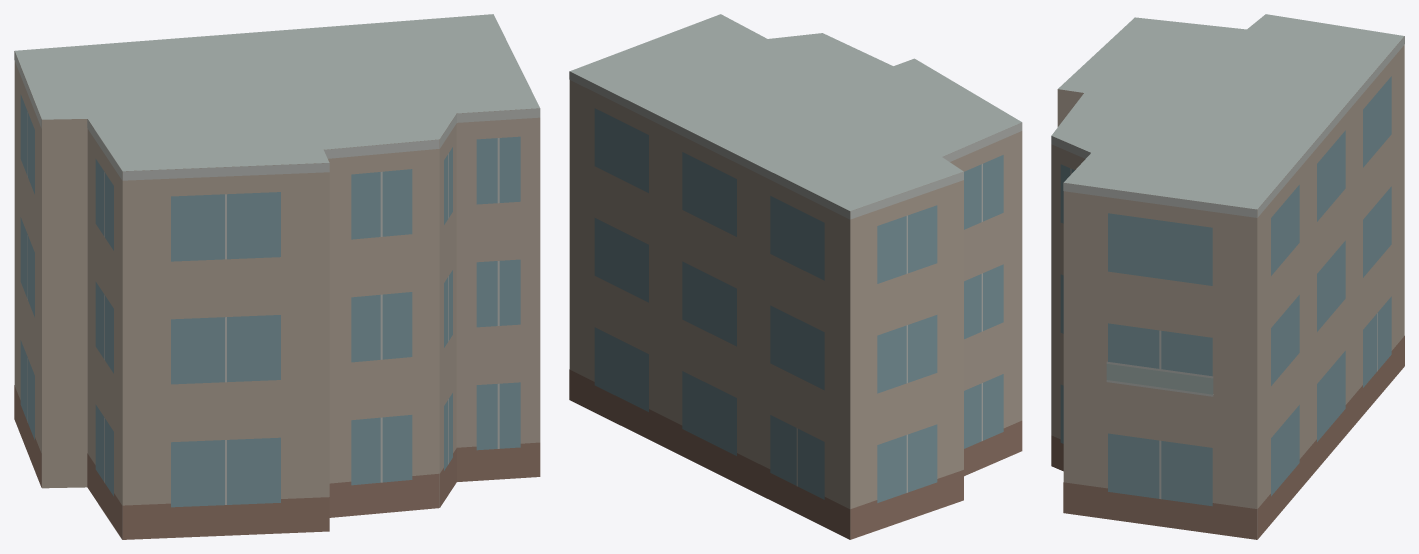
Rendered from survey-upis-32878286.glb.
3 views of the same model, side by side, from view 1: azimuth 30°, elevation 25°; view 2: azimuth 150°, elevation 25°; view 3: azimuth 270°, elevation 25° (orthographic). The views are drawn at different scales.
Visible parts, largest first — view 1: survey-upis-32878286.tmp; view 2: survey-upis-32878286.tmp; view 3: survey-upis-32878286.tmp.
Part boxes in pixels (<box>): survey-upis-32878286.tmp: <box>14,14,540,539</box>; survey-upis-32878286.tmp: <box>569,14,1022,539</box>; survey-upis-32878286.tmp: <box>1051,14,1404,539</box>.
Bounding box in the file's own units: 12.07 × 9.5 × 9.22.
